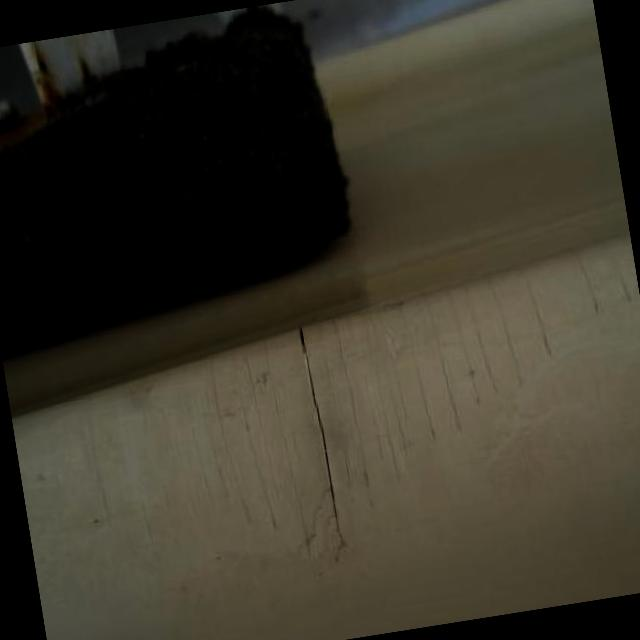crack: (299, 326, 347, 548)
